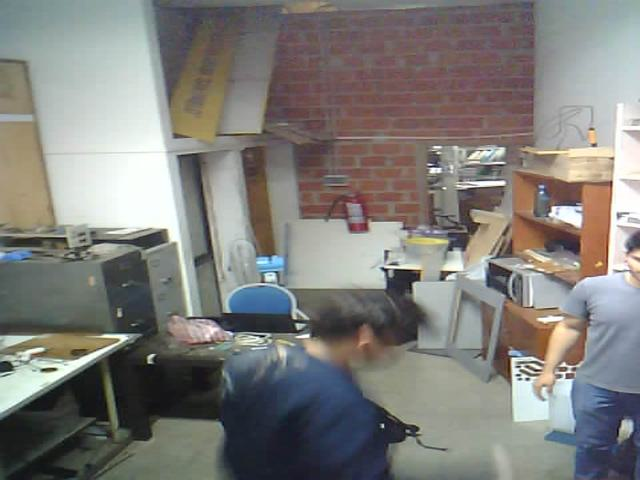person: (197, 273, 427, 480), (527, 193, 640, 480)
